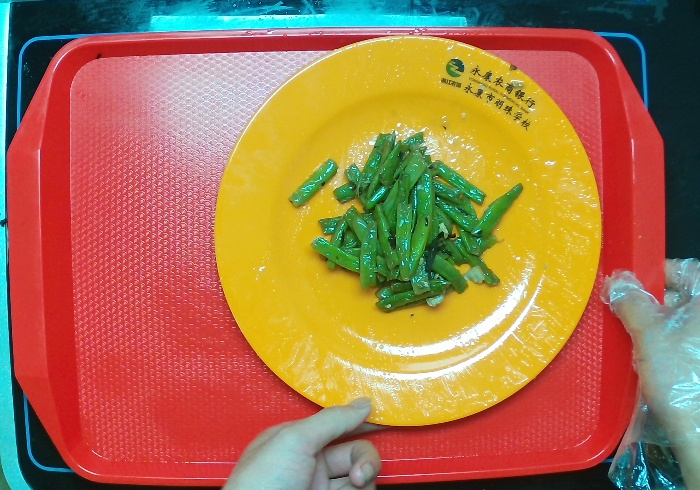YKMZ-Ju_Se_Mian_Pan: (209, 30, 613, 433)
